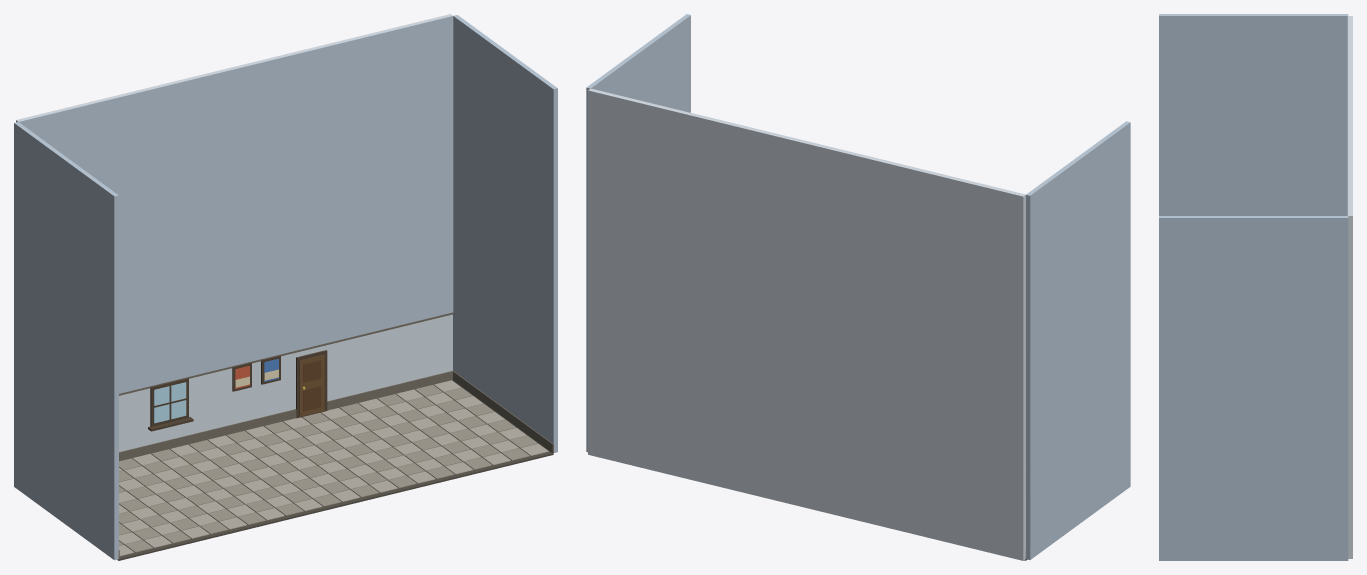
Rendered from room_azul_stone.glb.
3 views of the same model, side by side, from view 1: azimuth 30°, elevation 25°; view 2: azimuth 150°, elevation 25°; view 3: azimuth 270°, elevation 25° (orthographic). The views are drawn at different scales.
Visible parts, largest first — view 1: room; view 2: room; view 3: room.
Part boxes in pixels (left/top/right/bottom): room: left=14, top=14, right=557, bottom=560; room: left=586, top=14, right=1130, bottom=560; room: left=1159, top=14, right=1352, bottom=560.
Bounding box in the file's own units: 30.6 × 24.11 × 12.3.
